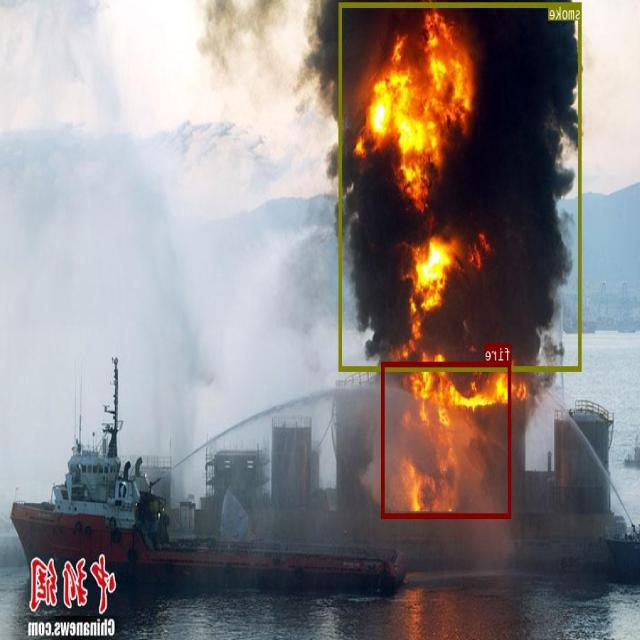fire: (382, 360, 512, 518)
smoke: (340, 2, 582, 370)
